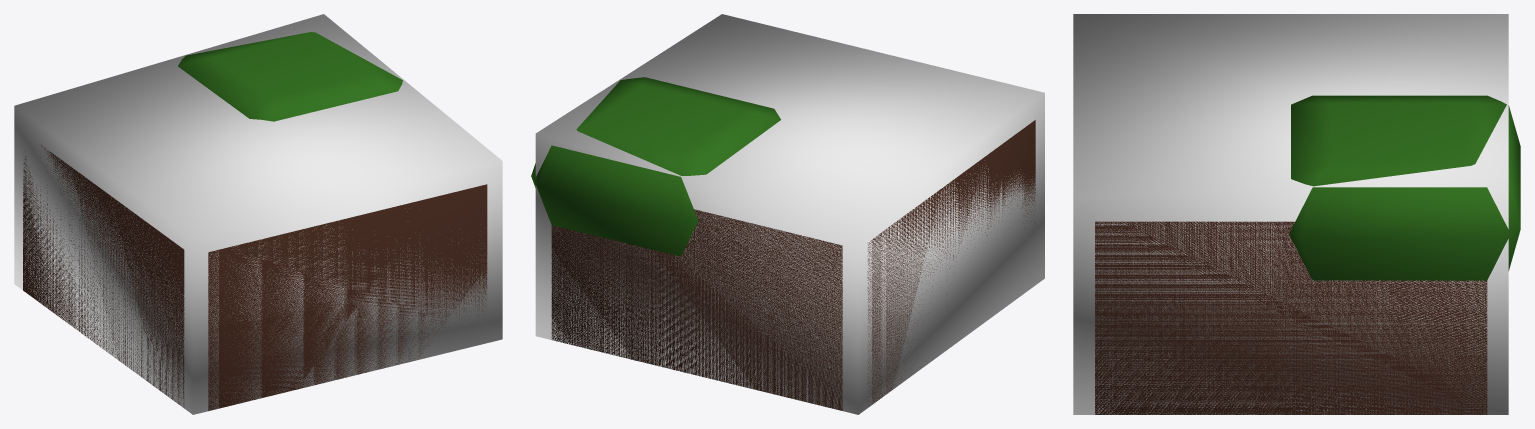
Rendered from path_edge_corner_inner.glb.
The picture shows the model from 3 angles, left to right: view 1: azimuth 30°, elevation 25°; view 2: azimuth 150°, elevation 25°; view 3: azimuth 270°, elevation 25°; orthographic projection. The views are drawn at different scales.
Visible parts, largest first — view 1: path_edge_corner_inner_phy, path_edge_corner_inner; view 2: path_edge_corner_inner_phy, path_edge_corner_inner; view 3: path_edge_corner_inner_phy, path_edge_corner_inner.
Boxes of the visible parts, x1,y1,x2,y2 form: path_edge_corner_inner_phy: (14, 14, 502, 414); path_edge_corner_inner: (23, 32, 487, 410); path_edge_corner_inner_phy: (535, 14, 1044, 414); path_edge_corner_inner: (531, 77, 1035, 410); path_edge_corner_inner_phy: (1073, 14, 1508, 414); path_edge_corner_inner: (1095, 95, 1520, 414).
Size of the model in its own units: 1.03 by 0.6 by 1.03.
